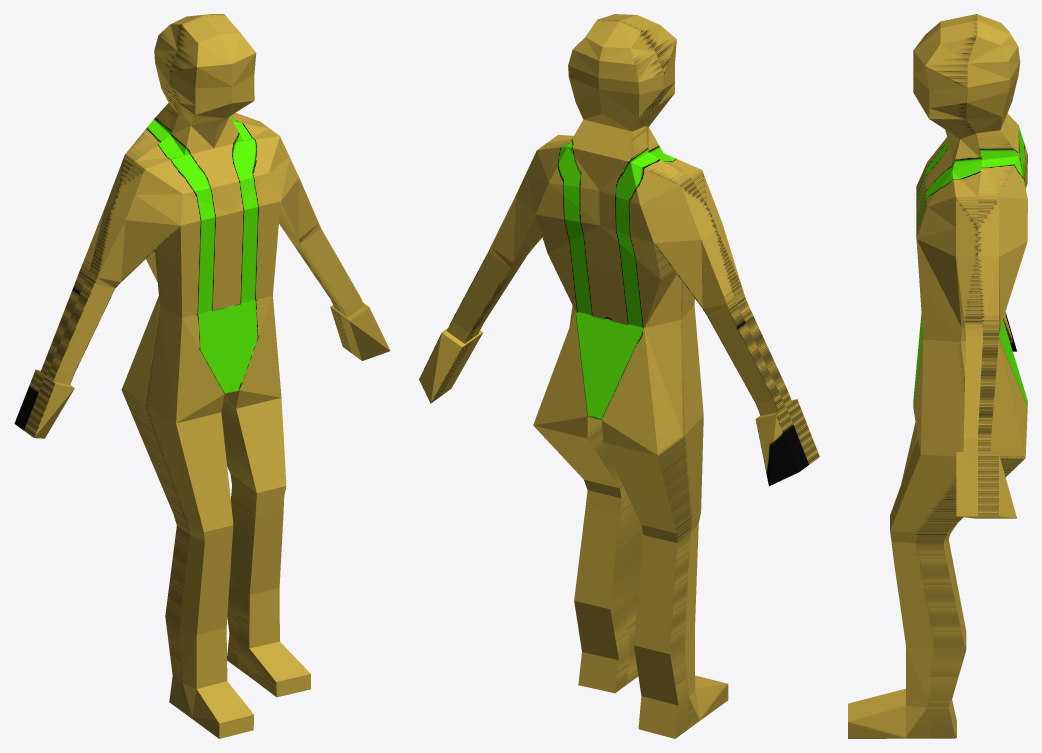
The picture shows the model from 3 angles, left to right: view 1: azimuth 30°, elevation 25°; view 2: azimuth 150°, elevation 25°; view 3: azimuth 270°, elevation 25°; orthographic projection. The views are drawn at different scales.
Visible parts, largest first — view 1: Borat; view 2: Borat; view 3: Borat.
Part boxes in pixels (box(x1,y1,x2,y2)): Borat: box(14, 14, 390, 738); Borat: box(419, 14, 819, 738); Borat: box(848, 14, 1027, 738).
Size of the model in its own units: 1.79 by 3.21 by 0.7247.
